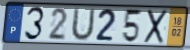2: (94, 6, 119, 45), (47, 7, 69, 42)
3: (22, 6, 47, 42)
5: (122, 8, 143, 45)
U: (69, 7, 97, 43)
X: (142, 8, 169, 45)
